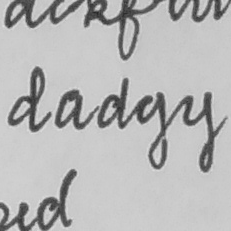a: (52, 87, 85, 133)
d: (5, 64, 49, 134), (93, 75, 131, 131)
g: (133, 89, 172, 171)
y: (177, 90, 217, 174)
